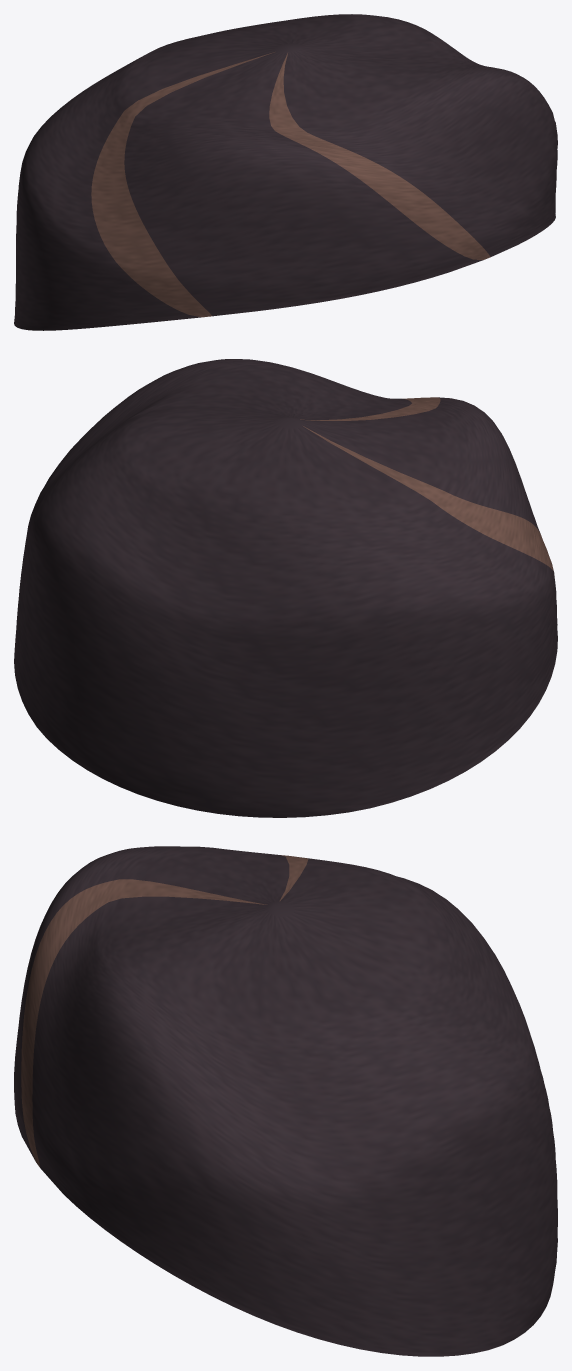
The model's file is hair_windswept_default.gltf.
3 renders of one model, top to bottom at view 1: azimuth 30°, elevation 25°; view 2: azimuth 150°, elevation 25°; view 3: azimuth 270°, elevation 25°, orthographic. The views are drawn at different scales.
Visible parts, largest first — view 1: Windswept Fringe default; view 2: Windswept Fringe default; view 3: Windswept Fringe default.
Boxes of the visible parts, x1=… form: Windswept Fringe default: x1=14, y1=14, x2=557, y2=330; Windswept Fringe default: x1=14, y1=359, x2=557, y2=817; Windswept Fringe default: x1=14, y1=846, x2=557, y2=1356.
Bounding box in the file's own units: 0.4792 × 0.2806 × 0.3751.
Materials: 2 (2 with a texture image).
